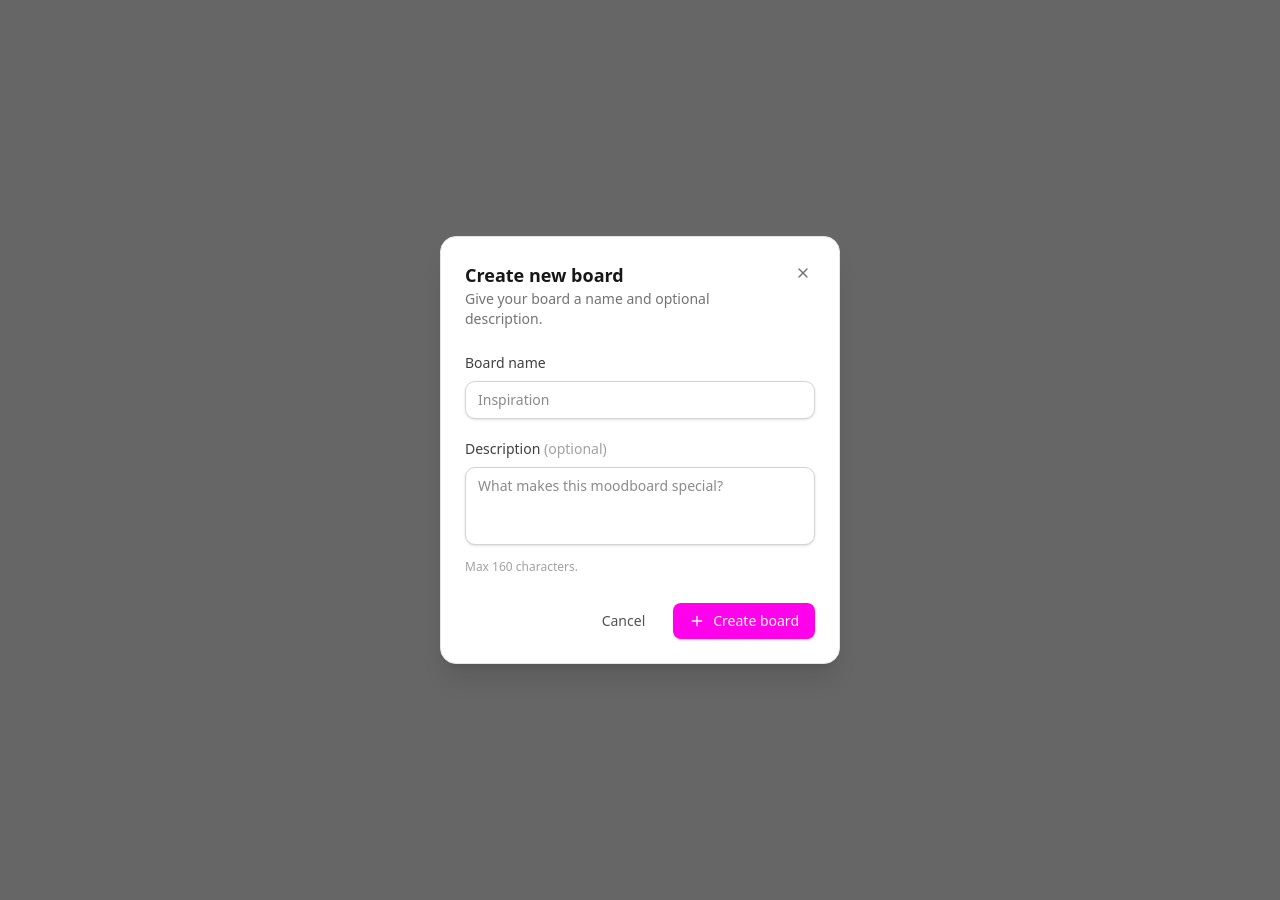
Scenario: CreateBoardModal › validates board name is required
Click the button "Create board". click: coordinates (744, 621)
box: [673,603,815,639]
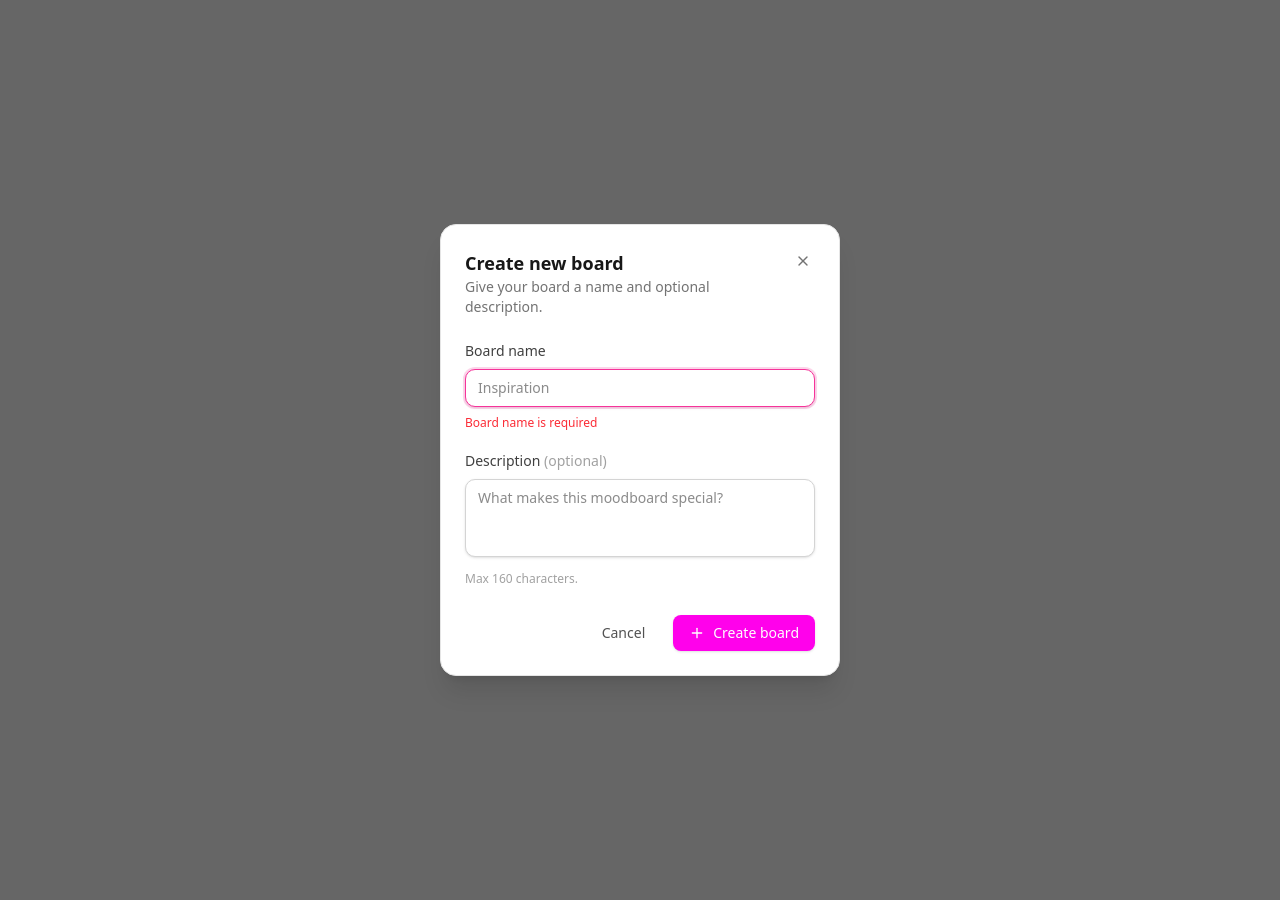
Result: the text "Board name is required" is shown at [465,414,598,431]
